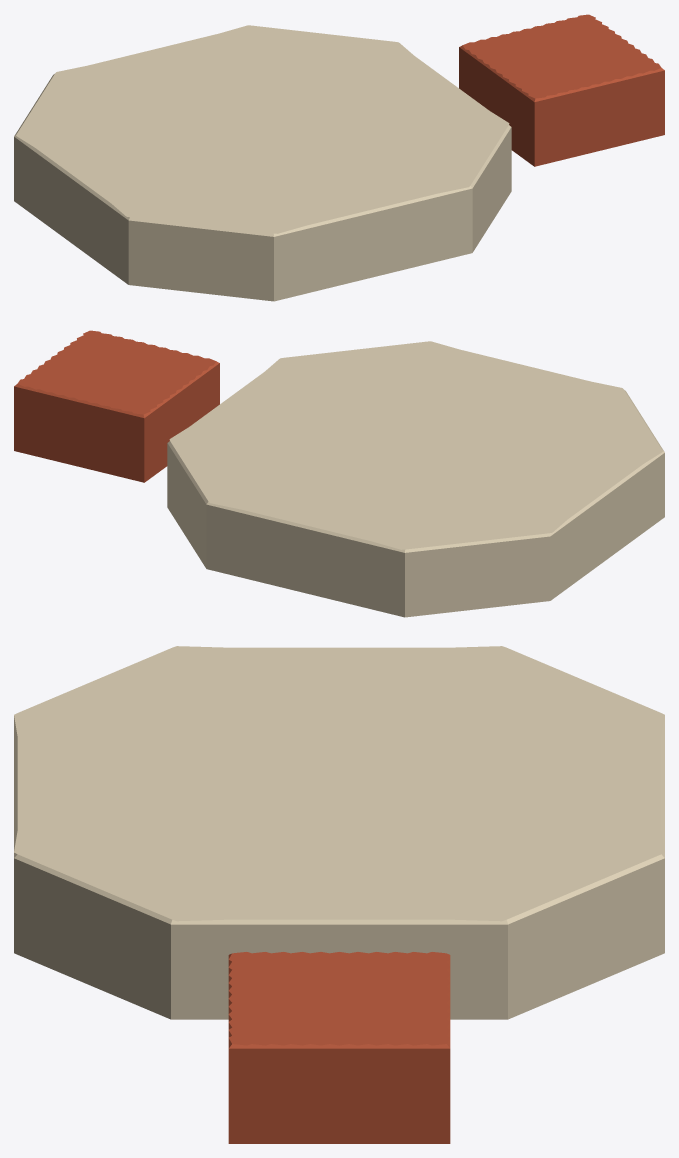
File: mahsulot.glb
3 renders of one model, top to bottom at view 1: azimuth 30°, elevation 25°; view 2: azimuth 150°, elevation 25°; view 3: azimuth 270°, elevation 25°, orthographic. The views are drawn at different scales.
Visible parts, largest first — view 1: mahsulot_A, mahsulot_B; view 2: mahsulot_A, mahsulot_B; view 3: mahsulot_A, mahsulot_B.
Part boxes in pixels (x1,y1,x2,y2): mahsulot_A: (14,25,511,301); mahsulot_B: (459,14,664,166); mahsulot_A: (167,341,664,617); mahsulot_B: (14,330,219,482); mahsulot_A: (14,646,664,1019); mahsulot_B: (228,952,450,1143).
Size of the model in its own units: 0.392 by 0.045 by 0.27.
